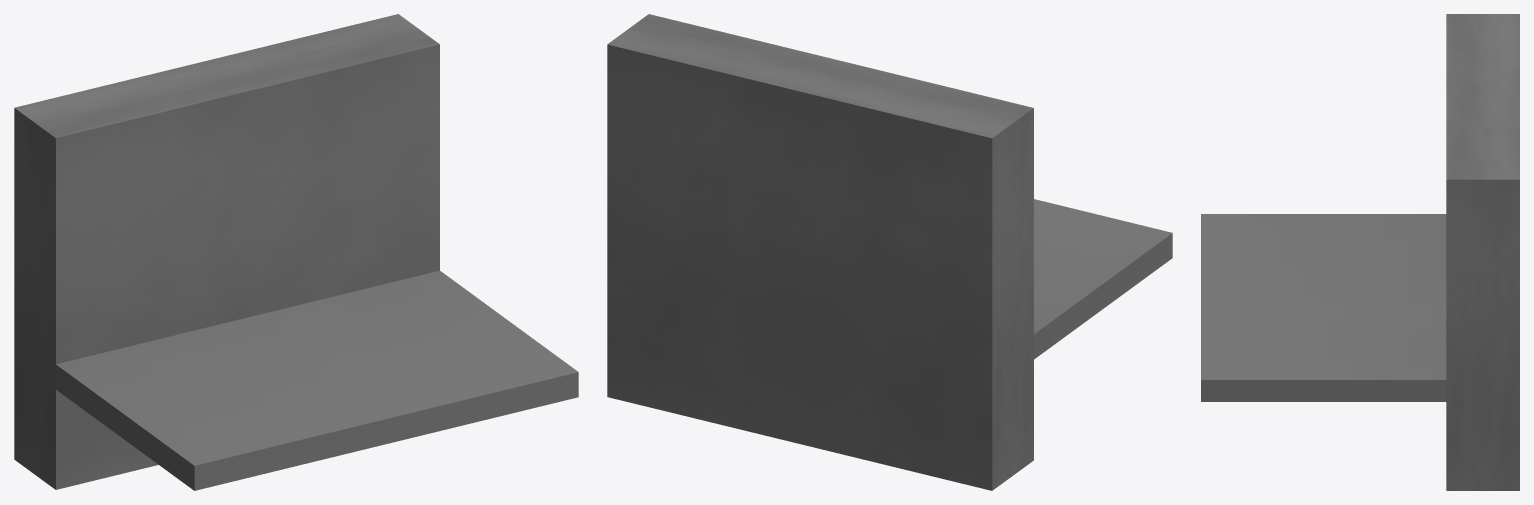
The model's file is dc_metro_fence_002.obj.
3 renders of one model, left to right at view 1: azimuth 30°, elevation 25°; view 2: azimuth 150°, elevation 25°; view 3: azimuth 270°, elevation 25°, orthographic. The views are drawn at different scales.
Parts seen in each view (by area): view 1: cube; view 2: cube; view 3: cube.
Part boxes in pixels (box(x1,y1,x2,y2)): cube: box(14, 14, 578, 490); cube: box(607, 14, 1172, 490); cube: box(1201, 14, 1519, 490).
Size of the model in its own units: 1 by 0.875 by 0.8125.
1 material, 1 textured.
